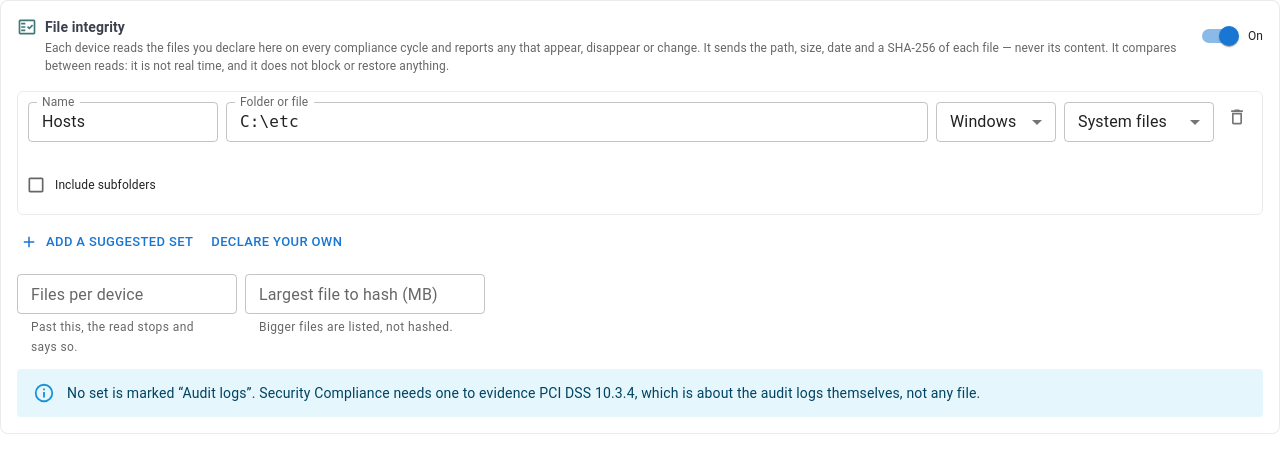
Test: FileIntegrityPanel › ⭐ sin un conjunto de registros de auditoría avisa de que PCI 10.3.4 queda sin evidencia
expect the text "No set is marked “Audit logs”" is shown: met, box [67, 385, 980, 401]
Press the mouse on the dropdown named "Purpose" at (1122, 122), box [1078, 112, 1167, 132]
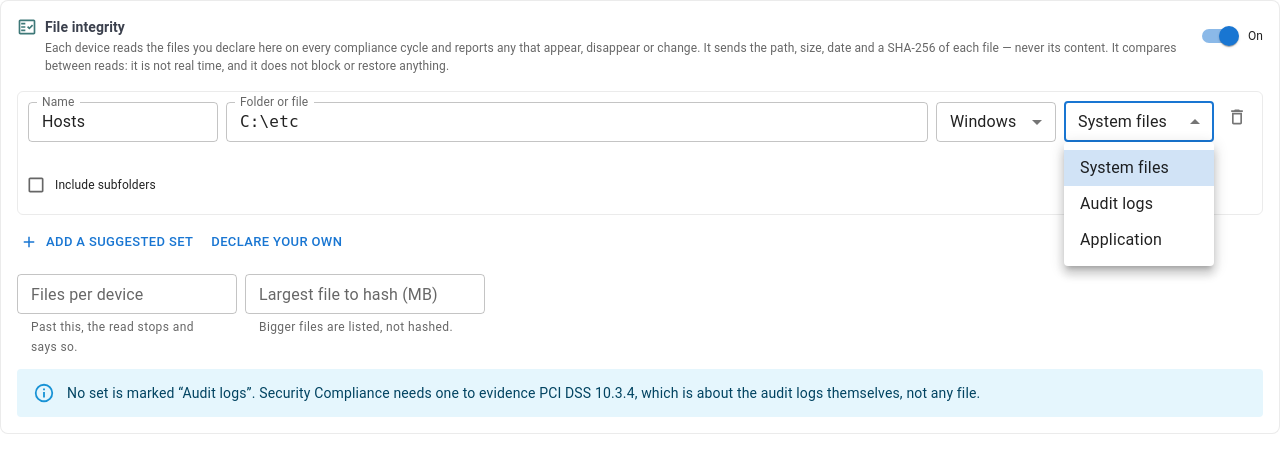
Click the option "Audit logs". click: (1117, 204)
box: [1080, 194, 1153, 213]
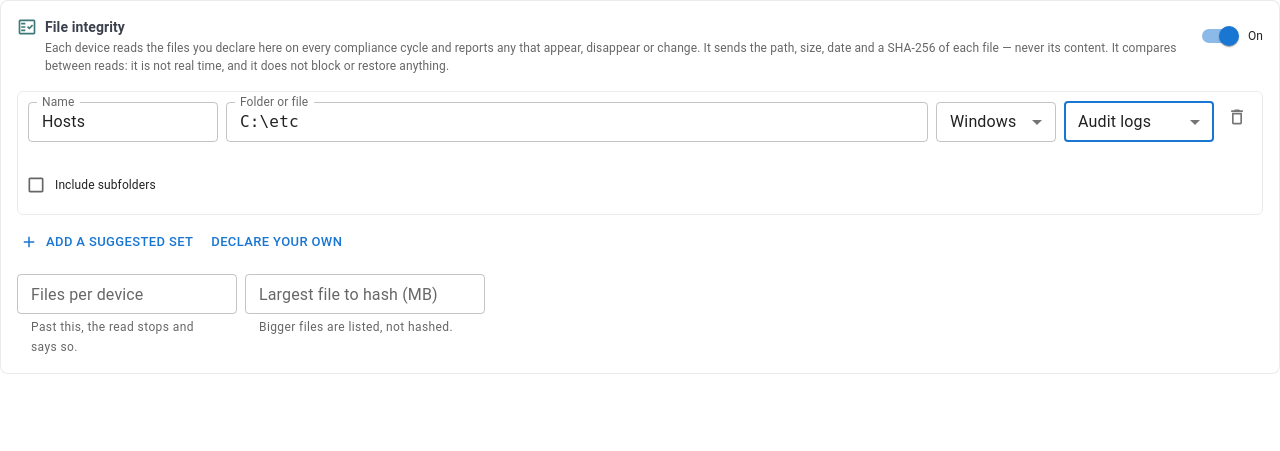
expect the text "No set is marked “Audit logs”" is gone: met
